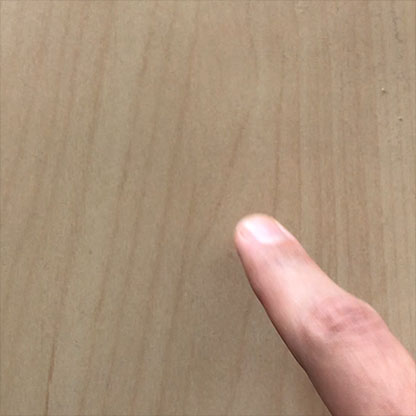fingertip: (220, 205, 309, 261)
